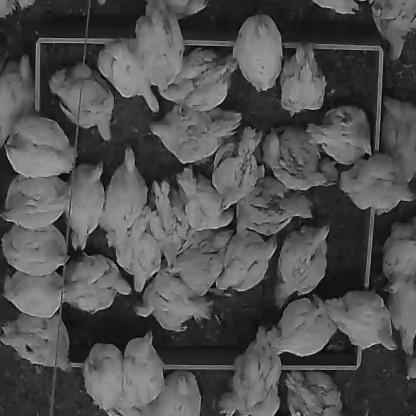chicken: (147, 90, 244, 170), (45, 56, 120, 144), (154, 39, 239, 116), (265, 219, 334, 311), (217, 325, 287, 415), (223, 169, 317, 235), (145, 177, 203, 279), (298, 101, 382, 171), (96, 145, 152, 249), (0, 111, 81, 182), (262, 292, 344, 360), (134, 1, 190, 100), (129, 269, 213, 334), (95, 39, 165, 117), (204, 127, 269, 210), (62, 246, 137, 317), (0, 307, 76, 377), (323, 288, 401, 356), (341, 152, 415, 221), (108, 203, 165, 292), (258, 127, 341, 188), (229, 10, 286, 94), (61, 155, 110, 252), (212, 223, 277, 294), (118, 330, 172, 415), (0, 219, 73, 278), (173, 169, 238, 235), (3, 170, 72, 231), (276, 43, 329, 119), (81, 341, 133, 415), (0, 266, 71, 319), (0, 51, 37, 152), (361, 1, 415, 65), (283, 363, 348, 415), (379, 213, 415, 298), (382, 97, 415, 188), (148, 367, 208, 415), (388, 270, 415, 358), (142, 1, 211, 21), (0, 1, 42, 22), (312, 1, 360, 15), (404, 354, 415, 382)
